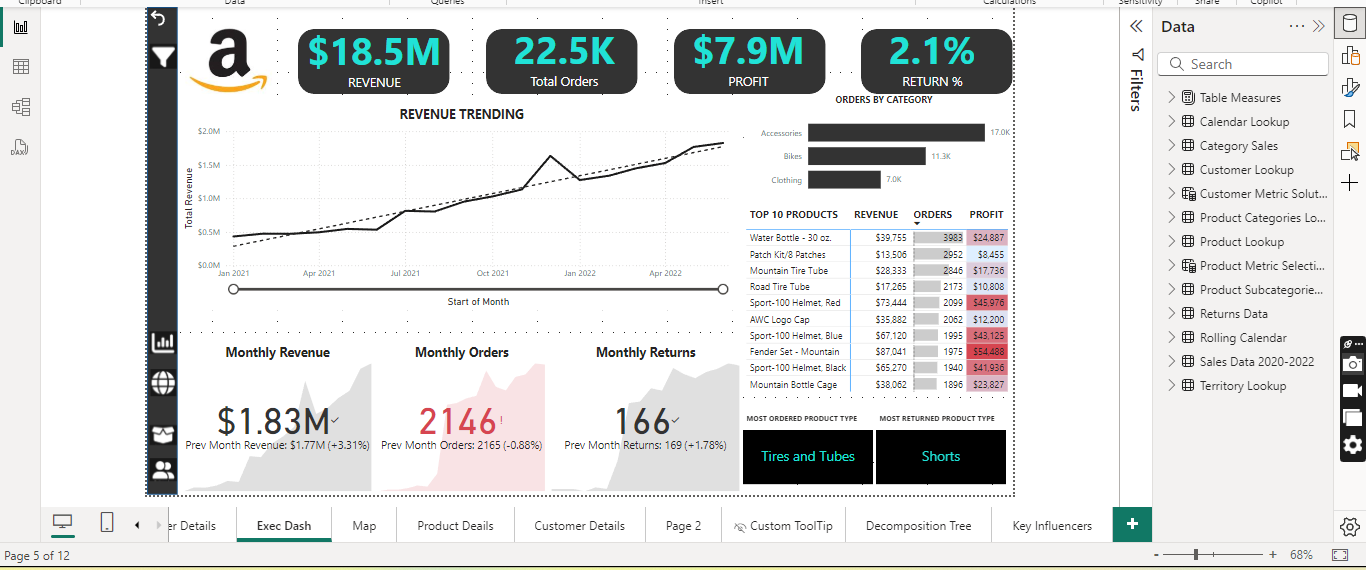

What the dashboard file says about the page in this screenshot:
{"tool":"powerbi","page":{"name":"Exec Dash","canvas":[1280,720],"ordinal":4},"visuals":[{"type":"image","title":"Amazon Logo","box":[48,16,144,128],"z":0},{"type":"card","fields":{"Values":["Table Measures.Total Revenue"]},"box":[216,24,240,100],"z":0,"group":"g2"},{"type":"group","id":"g1","title":"KPI Cards","box":[223.4,32.6,1056,96],"z":0,"group":"g3"},{"type":"shape","box":[223.4,32.6,224,96],"z":0,"group":"g1"},{"type":"shape","title":"Left Nav Bar","box":[0,0,45,720],"z":1000},{"type":"group","id":"g2","title":"KPI Values","box":[216,16,1064,112],"z":1000,"group":"g3"},{"type":"card","fields":{"Values":["Table Measures.Total Orders"]},"box":[496,16,240,112],"z":1000,"group":"g2"},{"type":"shape","box":[500.7,32.6,224,96],"z":1000,"group":"g1"},{"type":"card","fields":{"Values":["Table Measures.Total Profit"]},"box":[768,16,240,112],"z":2000,"group":"g2"},{"type":"shape","box":[778.1,32.6,224,96],"z":2000,"group":"g1"},{"type":"actionButton","box":[0,522.8,48,64],"z":2000},{"type":"group","id":"g3","title":"KPIs","box":[216,16,1064,112.6],"z":3000},{"type":"card","fields":{"Values":["Table Measures.Return Rate"]},"box":[1040,16,240,112],"z":3000,"group":"g2"},{"type":"shape","box":[1055.4,32.6,224,96],"z":3000,"group":"g1"},{"type":"actionButton","box":[0,592,48,80],"z":4000},{"type":"lineChart","title":"REVENUE TRENDING","fields":{"Y":["Table Measures.Total Revenue"],"Category":["Calendar Lookup.Start of Week","Calendar Lookup.Start of Month","Calendar Lookup.Start of Quarter","Calendar Lookup.Start of Year"]},"box":[48,144,832,304],"z":5000},{"type":"actionButton","box":[0,650.8,48,64],"z":6000},{"type":"kpi","title":"Monthly Revenue","fields":{"Indicator":["Table Measures.Total Revenue"],"TrendLine":["Calendar Lookup.Start of Month"],"Goal":["Table Measures.Previous Month Revenue"]},"box":[48,496,288,224],"z":7000},{"type":"kpi","title":"Monthly Orders","fields":{"TrendLine":["Calendar Lookup.Start of Month"],"Indicator":["Table Measures.Total Orders"],"Goal":["Table Measures.Previous Month Orders"]},"box":[336,496,256,224],"z":8000},{"type":"kpi","title":"Monthly Returns","fields":{"TrendLine":["Calendar Lookup.Start of Month"],"Indicator":["Table Measures.Total Returns"],"Goal":["Table Measures.Prevuious Month Returns"]},"box":[592,496,288,224],"z":9000},{"type":"clusteredBarChart","title":"ORDERS BY CATEGORY","fields":{"Category":["Product Categories Lookup.CategoryName"],"Y":["Table Measures.Total Orders"]},"box":[896,128,384,160],"z":10000},{"type":"pivotTable","fields":{"Rows":["Product Lookup.ProductName"],"Values":["Table Measures.Total Revenue","Table Measures.Total Orders","Table Measures.Total Profit"]},"box":[880,288,400,288],"z":11000},{"type":"card","fields":{"Values":["Min(Product Subcategories Lookup.SubcategoryName)"]},"box":[880,624,192,80],"z":12000},{"type":"textbox","box":[880,592,192,32],"z":13000},{"type":"card","fields":{"Values":["Min(Product Subcategories Lookup.SubcategoryName)"]},"box":[1076.6,624.6,192,80],"z":14000},{"type":"textbox","box":[1076.6,592.6,192,32],"z":15000},{"type":"actionButton","box":[0,0,48,32],"z":16000},{"type":"actionButton","box":[0,464,48,64],"z":17000},{"type":"actionButton","box":[0,48,48,48],"z":18000}]}

Visuals, with their boxes on the page's 1280x720 design canvas (x1, y1, x2, y2). These are canvas units, not pixel positions in the 1366x570 screenshot, which may show the page scaled, cropped or inside an application window:
"Amazon Logo" image: (x1=48, y1=16, x2=192, y2=144)
card - Table Measures.Total Revenue: (x1=216, y1=24, x2=456, y2=124)
"KPI Cards" group: (x1=223, y1=33, x2=1279, y2=129)
shape: (x1=223, y1=33, x2=447, y2=129)
"Left Nav Bar" shape: (x1=0, y1=0, x2=45, y2=720)
"KPI Values" group: (x1=216, y1=16, x2=1280, y2=128)
card - Table Measures.Total Orders: (x1=496, y1=16, x2=736, y2=128)
shape: (x1=501, y1=33, x2=725, y2=129)
card - Table Measures.Total Profit: (x1=768, y1=16, x2=1008, y2=128)
shape: (x1=778, y1=33, x2=1002, y2=129)
actionButton: (x1=0, y1=523, x2=48, y2=587)
"KPIs" group: (x1=216, y1=16, x2=1280, y2=129)
card - Table Measures.Return Rate: (x1=1040, y1=16, x2=1280, y2=128)
shape: (x1=1055, y1=33, x2=1279, y2=129)
actionButton: (x1=0, y1=592, x2=48, y2=672)
"REVENUE TRENDING" lineChart: (x1=48, y1=144, x2=880, y2=448)
actionButton: (x1=0, y1=651, x2=48, y2=715)
"Monthly Revenue" kpi: (x1=48, y1=496, x2=336, y2=720)
"Monthly Orders" kpi: (x1=336, y1=496, x2=592, y2=720)
"Monthly Returns" kpi: (x1=592, y1=496, x2=880, y2=720)
"ORDERS BY CATEGORY" clusteredBarChart: (x1=896, y1=128, x2=1280, y2=288)
pivotTable - Product Lookup.ProductName x Table Measures.Total Revenue: (x1=880, y1=288, x2=1280, y2=576)
card - Min(Product Subcategories Lookup.SubcategoryName): (x1=880, y1=624, x2=1072, y2=704)
textbox: (x1=880, y1=592, x2=1072, y2=624)
card - Min(Product Subcategories Lookup.SubcategoryName): (x1=1077, y1=625, x2=1269, y2=705)
textbox: (x1=1077, y1=593, x2=1269, y2=625)
actionButton: (x1=0, y1=0, x2=48, y2=32)
actionButton: (x1=0, y1=464, x2=48, y2=528)
actionButton: (x1=0, y1=48, x2=48, y2=96)
